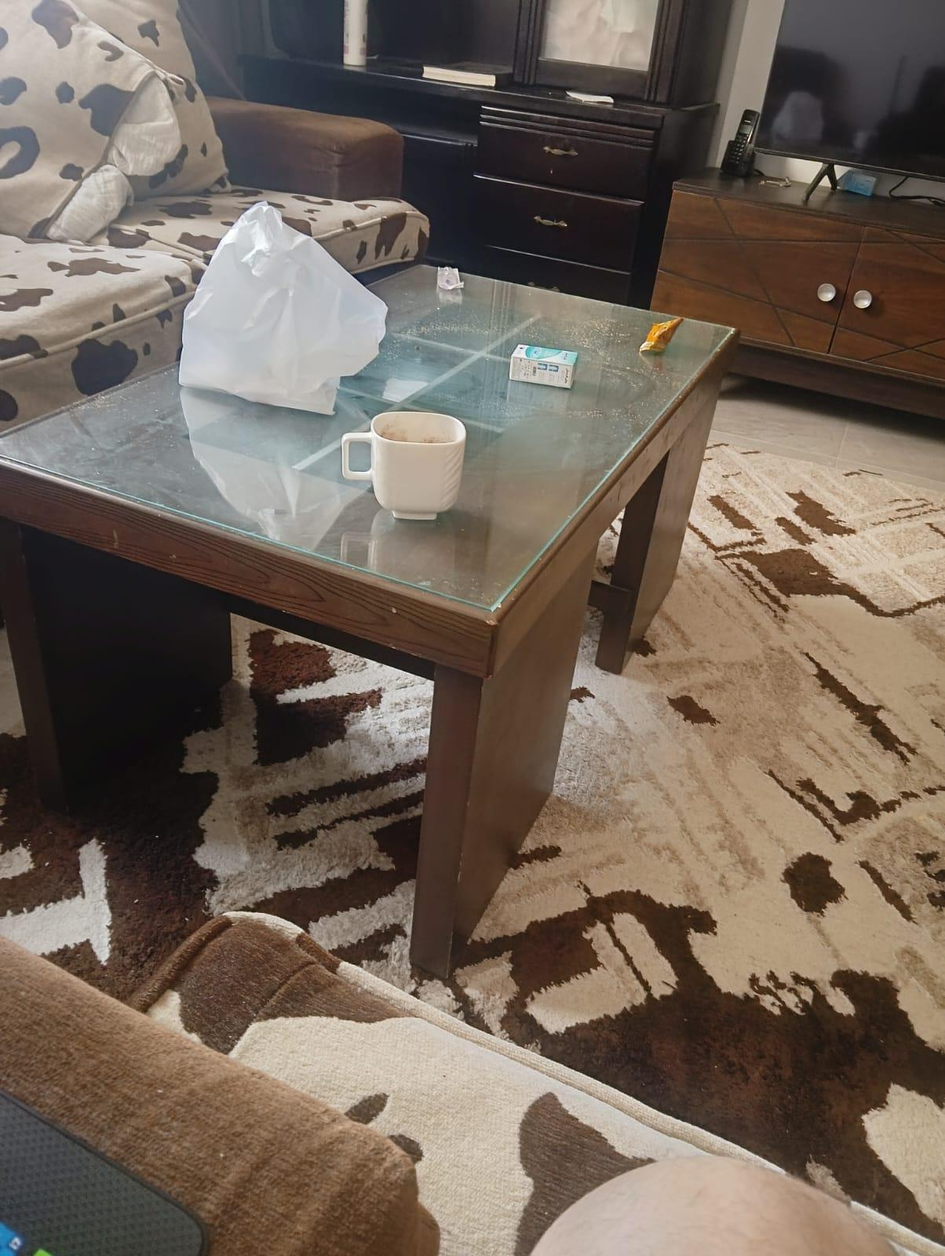cup: (342, 411, 465, 519)
